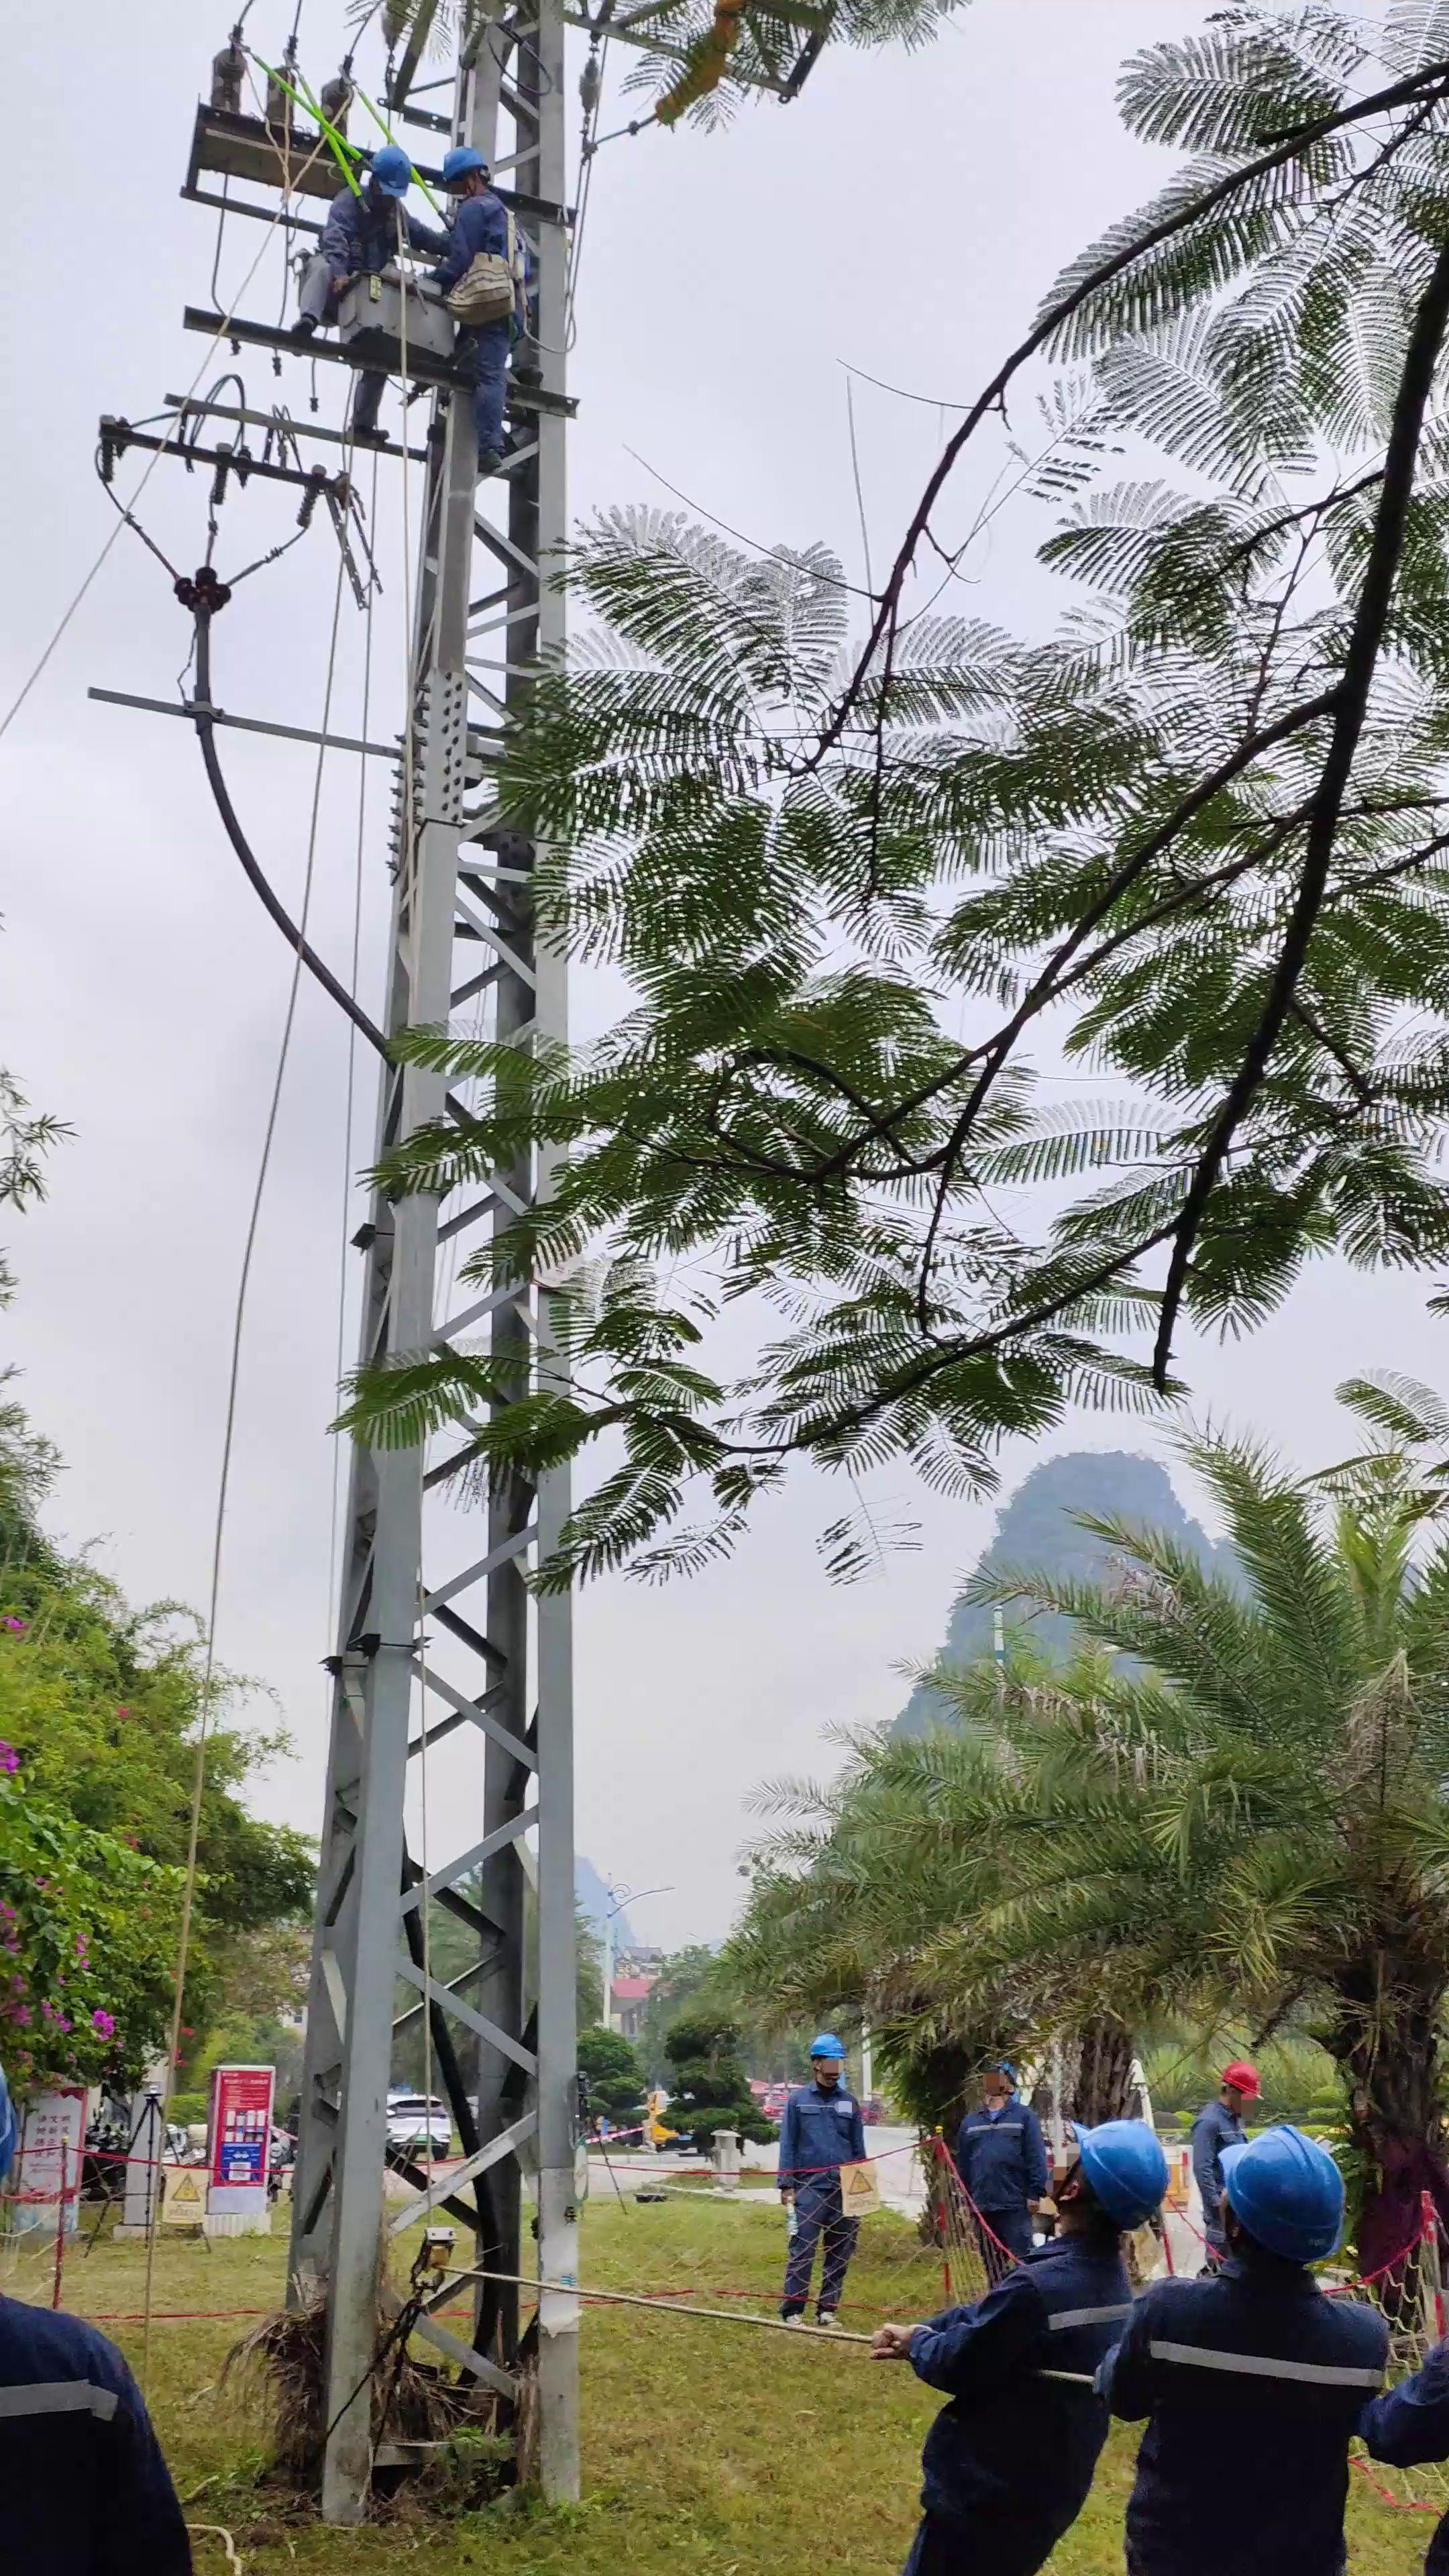halt: (1219, 2125, 1350, 2266), (1062, 2118, 1173, 2240), (441, 147, 494, 198), (1217, 2063, 1265, 2118), (366, 147, 414, 200), (809, 2035, 849, 2086), (982, 2061, 1021, 2107)
